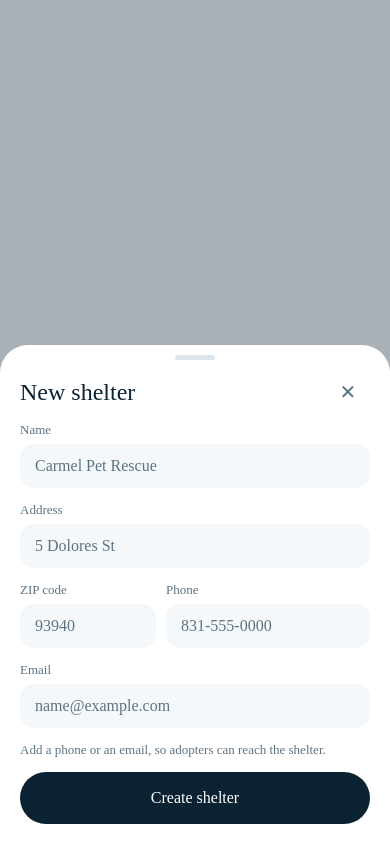
Test case: a 400 from the API shows each message under its field
Click the button "Create shelter" at (195, 798), box [20,772,370,824]
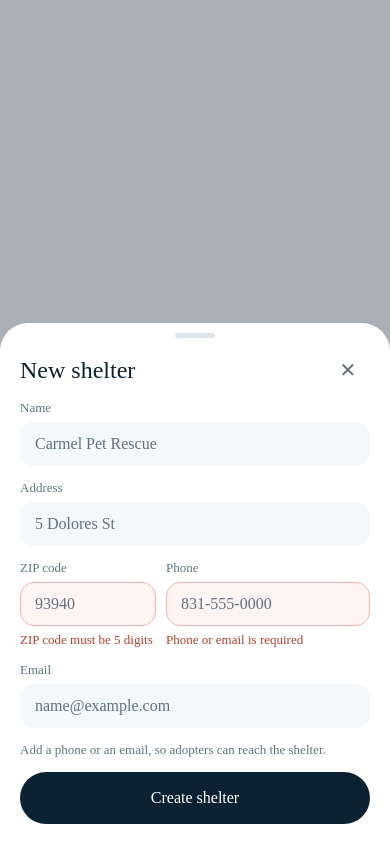
Result: the text "ZIP code must be 5 digits" is shown at [20,632,156,648]
Result: the text "Phone or email is required" is shown at [166,632,303,647]
